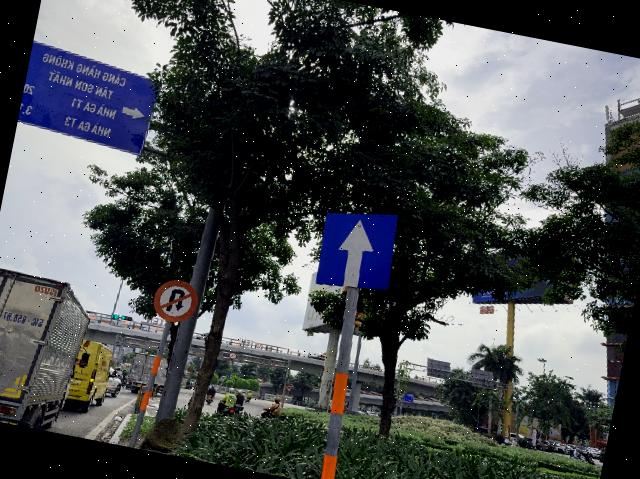cam-quay-dau-xe: (150, 275, 201, 326)
duong-mot-chieu: (312, 202, 402, 298)
